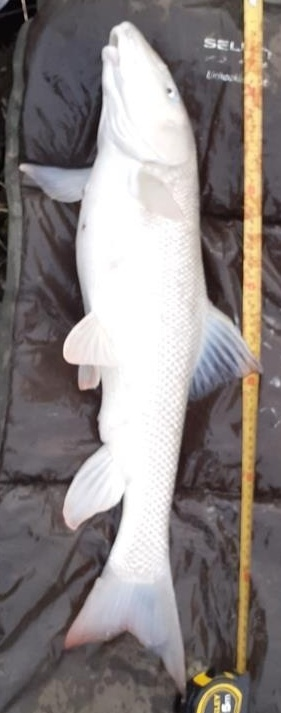Barbus barbus: (20, 20, 261, 693)
